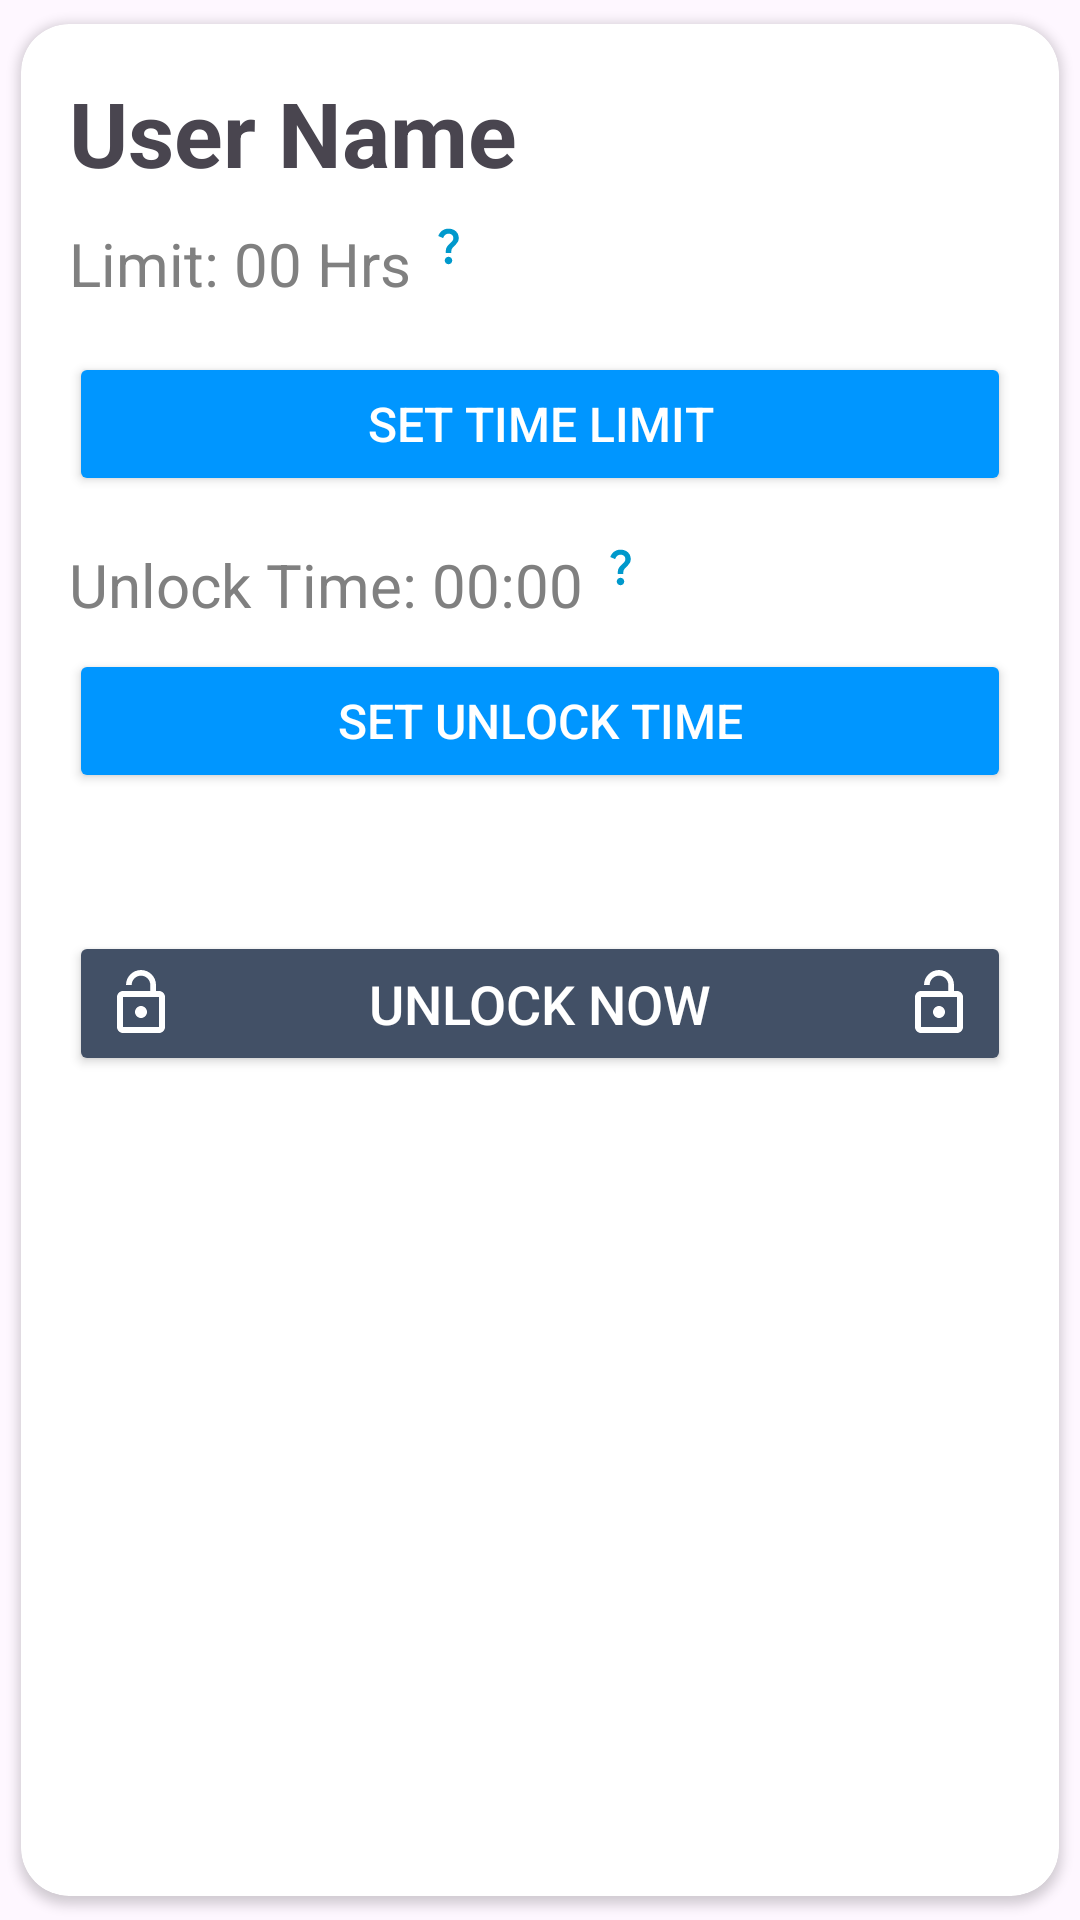

Screen size 1080×1920. Icon name, then its box in pixels as (x1, y1, x2, y2):
Question Mark: (438, 228, 459, 265), (610, 549, 631, 586)
